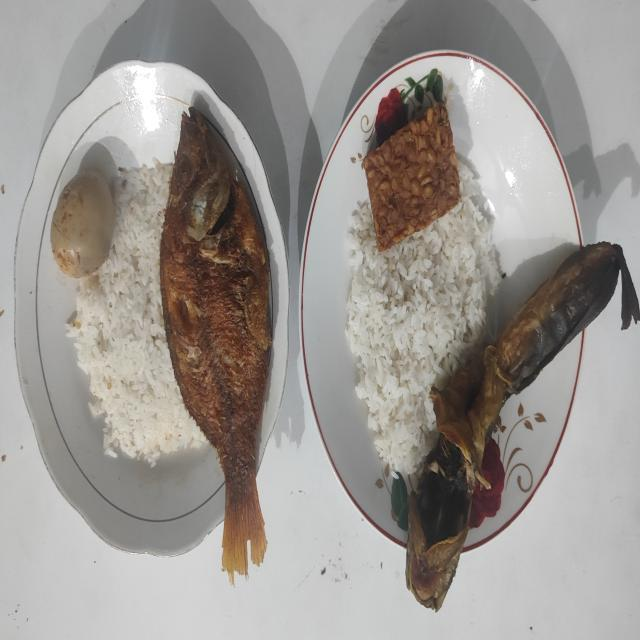ikan_mujair: (160, 110, 272, 580)
nasi_putih: (346, 169, 501, 476), (65, 160, 208, 467)
tempe_goreng: (362, 103, 460, 251)
